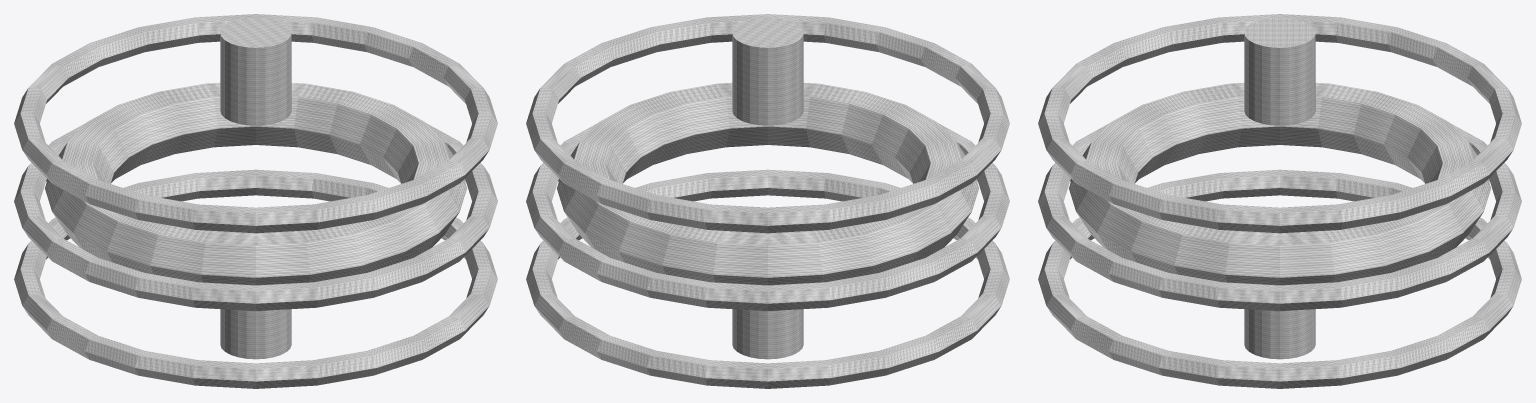
Rendered from item-screws_variant_c.glb.
The picture shows the model from 3 angles, left to right: view 1: azimuth 30°, elevation 25°; view 2: azimuth 150°, elevation 25°; view 3: azimuth 270°, elevation 25°; orthographic projection.
Parts seen in each view (by area): view 1: Coiled conductor.003, Variant collar.002, Variant collar, Variant collar.001, Coil end.006, Coil end.005; view 2: Coiled conductor.003, Variant collar.002, Variant collar, Variant collar.001, Coil end.006, Coil end.005; view 3: Coiled conductor.003, Variant collar.002, Variant collar, Variant collar.001, Coil end.006, Coil end.005.
Part boxes in pixels (x1=…): Coiled conductor.003: x1=45, y1=82, x2=466, y2=285; Variant collar.002: x1=14, y1=14, x2=497, y2=233; Variant collar: x1=14, y1=169, x2=497, y2=388; Variant collar.001: x1=14, y1=123, x2=497, y2=310; Coil end.006: x1=220, y1=17, x2=291, y2=125; Coil end.005: x1=220, y1=309, x2=291, y2=359; Coiled conductor.003: x1=557, y1=82, x2=978, y2=285; Variant collar.002: x1=526, y1=14, x2=1009, y2=233; Variant collar: x1=526, y1=169, x2=1009, y2=388; Variant collar.001: x1=526, y1=123, x2=1009, y2=310; Coil end.006: x1=732, y1=17, x2=803, y2=125; Coil end.005: x1=732, y1=309, x2=803, y2=359; Coiled conductor.003: x1=1069, y1=82, x2=1490, y2=285; Variant collar.002: x1=1038, y1=14, x2=1521, y2=233; Variant collar: x1=1038, y1=169, x2=1521, y2=388; Variant collar.001: x1=1038, y1=123, x2=1521, y2=310; Coil end.006: x1=1244, y1=17, x2=1315, y2=125; Coil end.005: x1=1244, y1=309, x2=1315, y2=359.
Size of what is drawn, in the model's own units: 0.676 by 0.48 by 0.676.
2 materials, 2 textured.
